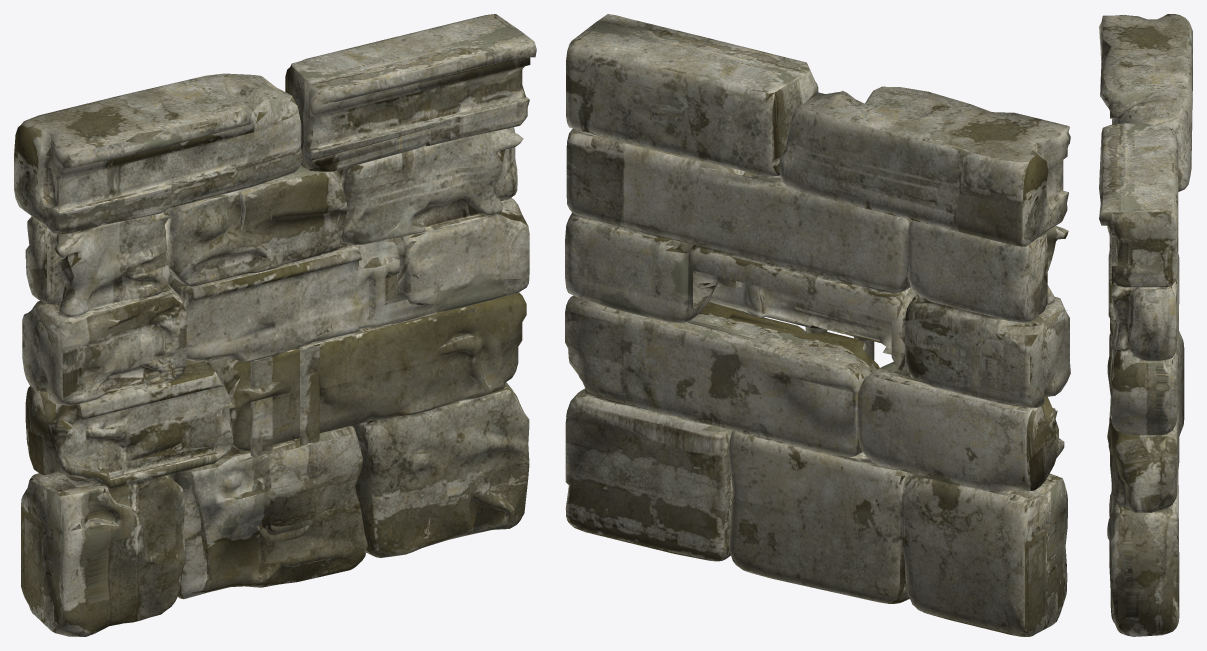
The model's file is wall_1.glb.
3 views of the same model, side by side, from view 1: azimuth 30°, elevation 25°; view 2: azimuth 150°, elevation 25°; view 3: azimuth 270°, elevation 25° (orthographic). The views are drawn at different scales.
Visible parts, largest first — view 1: mesh_rep_0_ori_repair.001_StoneWall1_0; view 2: mesh_rep_0_ori_repair.001_StoneWall1_0; view 3: mesh_rep_0_ori_repair.001_StoneWall1_0.
Part boxes in pixels (x1,y1,x2,y2): mesh_rep_0_ori_repair.001_StoneWall1_0: [14, 14, 536, 636]; mesh_rep_0_ori_repair.001_StoneWall1_0: [565, 14, 1070, 636]; mesh_rep_0_ori_repair.001_StoneWall1_0: [1099, 14, 1192, 636].
Size of the model in its own units: 0.8441 by 0.8441 by 0.1685.
Materials: 1 (1 with a texture image).
